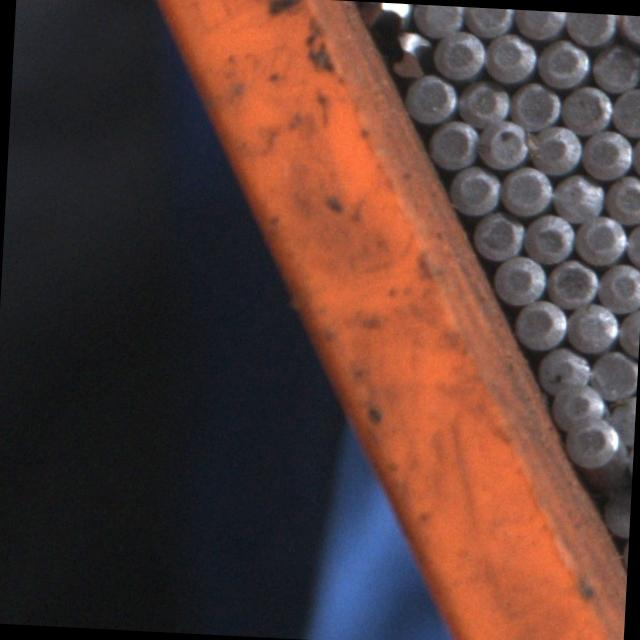tool: (563, 415, 622, 472), (512, 296, 568, 351), (550, 376, 606, 428), (528, 122, 582, 175), (403, 72, 456, 126), (470, 209, 524, 261), (492, 254, 546, 306), (478, 116, 530, 170), (500, 165, 552, 218), (568, 301, 620, 354), (432, 28, 485, 80), (484, 31, 536, 84), (426, 117, 478, 170), (448, 165, 500, 218), (538, 345, 592, 396), (537, 36, 589, 88), (574, 212, 626, 264), (581, 128, 633, 180), (546, 256, 598, 308), (588, 348, 639, 401), (560, 83, 612, 134), (590, 40, 640, 93), (552, 172, 603, 223), (524, 212, 574, 264), (508, 80, 560, 130), (456, 77, 508, 127), (388, 24, 435, 72), (597, 260, 640, 311), (564, 12, 615, 47), (605, 173, 640, 223), (599, 484, 632, 536), (514, 9, 564, 42), (413, 5, 463, 38), (609, 85, 640, 137), (464, 8, 513, 36), (611, 392, 637, 442), (372, 2, 416, 24)
